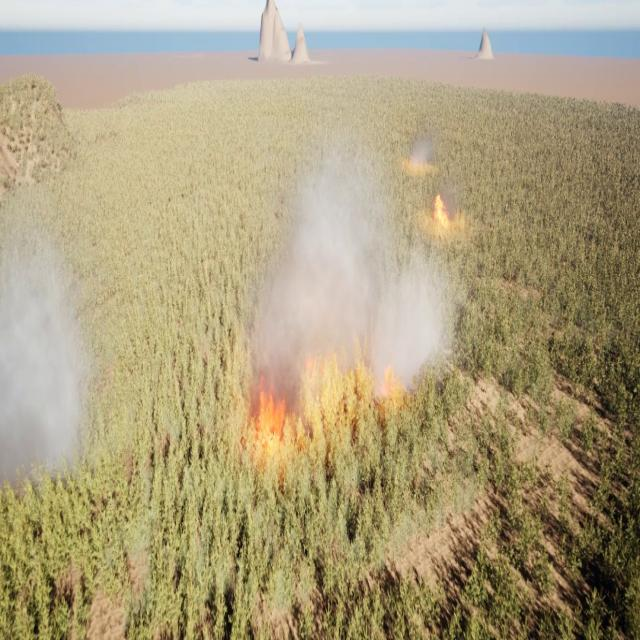fire: (252, 375, 294, 450), (306, 356, 358, 406), (382, 359, 402, 397), (433, 192, 451, 226)
smoke: (229, 122, 458, 410), (0, 200, 93, 483), (440, 177, 467, 224), (406, 134, 440, 169)
